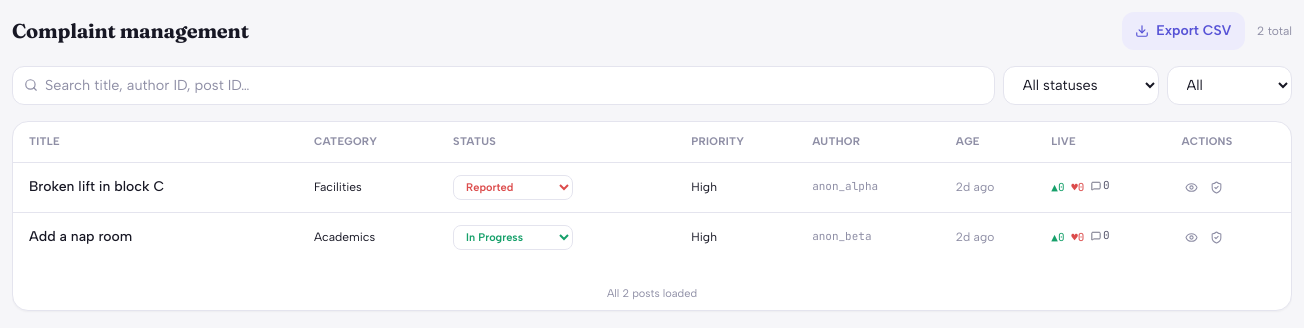
Test: PostsTable — filters › filters by search across title
Expected: the text "Broken lift in block C" is shown, top-left (29, 178), bottom-right (164, 195)
Step 1. Type "nap" into the field with placeholder "Search title, author ID, post ID…" → x=504, y=85, box top-left (12, 66), bottom-right (995, 104)
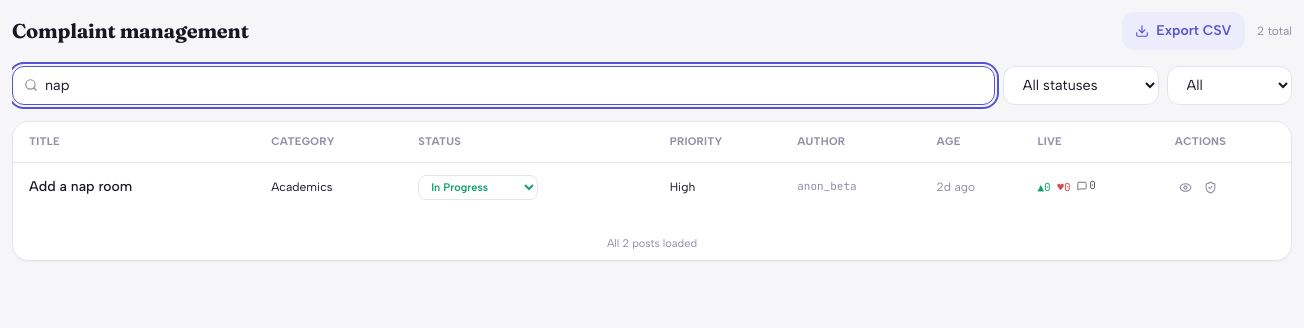
Expected: the text "Add a nap room" is shown, top-left (29, 178), bottom-right (132, 195)
Expected: the text "Broken lift in block C" is gone
